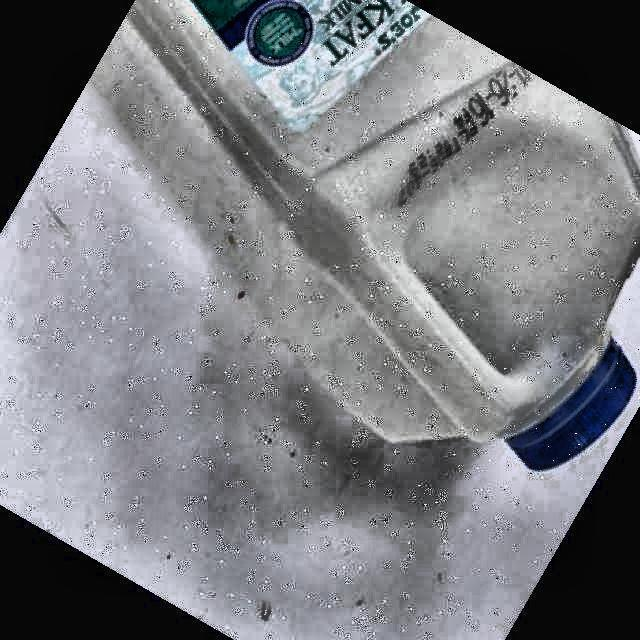plastic: (92, 0, 640, 474)
